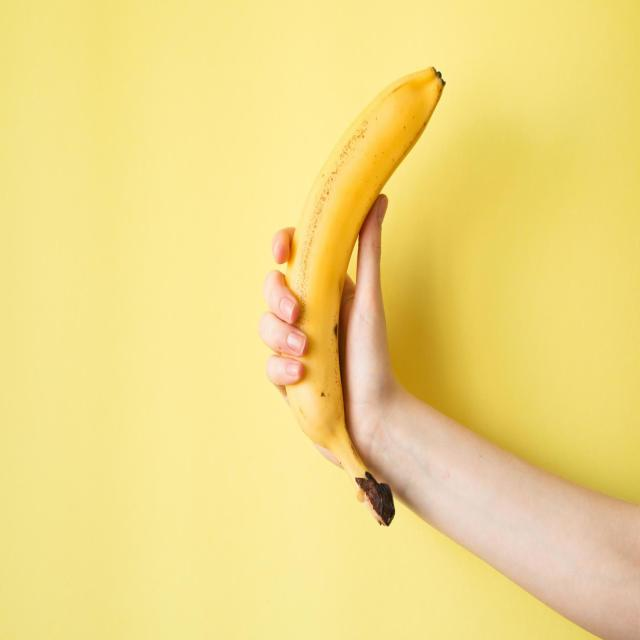banana: (276, 66, 444, 542)
hand: (244, 181, 640, 640)
